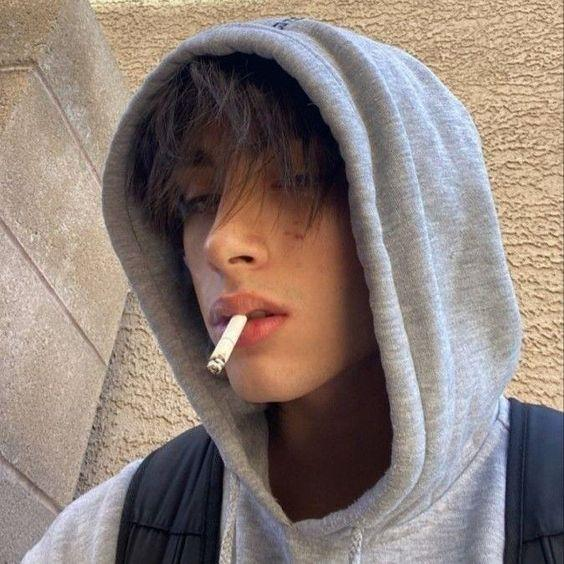cigarette: (205, 313, 247, 378)
